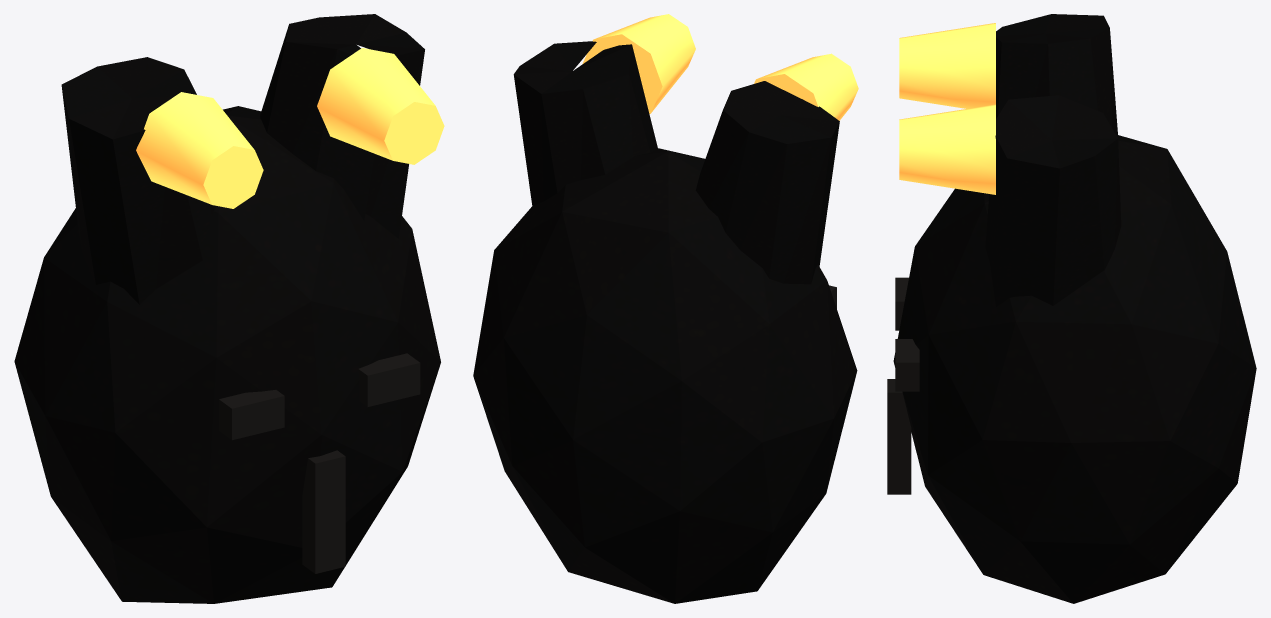
File: stone-wanderer-twin-candle-mask-v1.glb
3 views of the same model, side by side, from view 1: azimuth 30°, elevation 25°; view 2: azimuth 150°, elevation 25°; view 3: azimuth 270°, elevation 25° (orthographic). The views are drawn at different scales.
Parts seen in each view (by area): view 1: Part_0, Part_1, Part_2, Part_4, Part_3, Part_7, Part_5, Part_6; view 2: Part_0, Part_1, Part_2, Part_4, Part_3; view 3: Part_0, Part_2, Part_1, Part_4, Part_3, Part_7, Part_6, Part_5.
Part boxes in pixels (x1,y1,x2,y2): Part_0: (14, 106, 440, 603); Part_1: (61, 57, 216, 304); Part_2: (260, 14, 424, 238); Part_4: (317, 48, 444, 164); Part_3: (136, 92, 263, 208); Part_7: (302, 450, 345, 573); Part_5: (219, 390, 284, 440); Part_6: (358, 353, 420, 407); Part_0: (473, 148, 857, 603); Part_1: (695, 81, 839, 284); Part_2: (513, 41, 657, 206); Part_4: (582, 14, 695, 113); Part_3: (754, 53, 858, 120); Part_0: (893, 134, 1256, 603); Part_2: (985, 95, 1121, 306); Part_1: (996, 14, 1117, 134); Part_4: (899, 104, 995, 194); Part_3: (899, 23, 995, 108); Part_7: (887, 379, 911, 494); Part_6: (895, 339, 919, 391); Part_5: (895, 277, 908, 330).
Size of the model in its own units: 0.4951 by 0.7123 by 0.4594.
3 materials, 1 textured.
